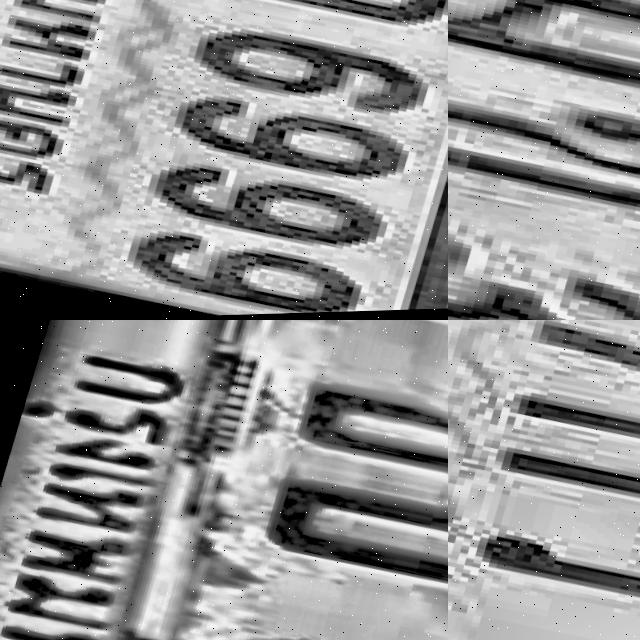license-plate: (0, 0, 448, 320), (0, 320, 448, 640), (448, 0, 640, 320), (448, 320, 640, 640)
